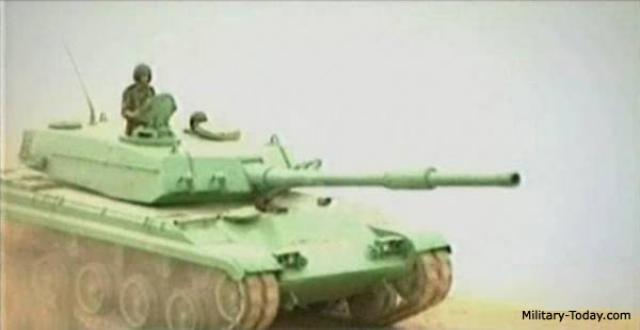other: (122, 62, 154, 119)
tank: (0, 112, 448, 321)
